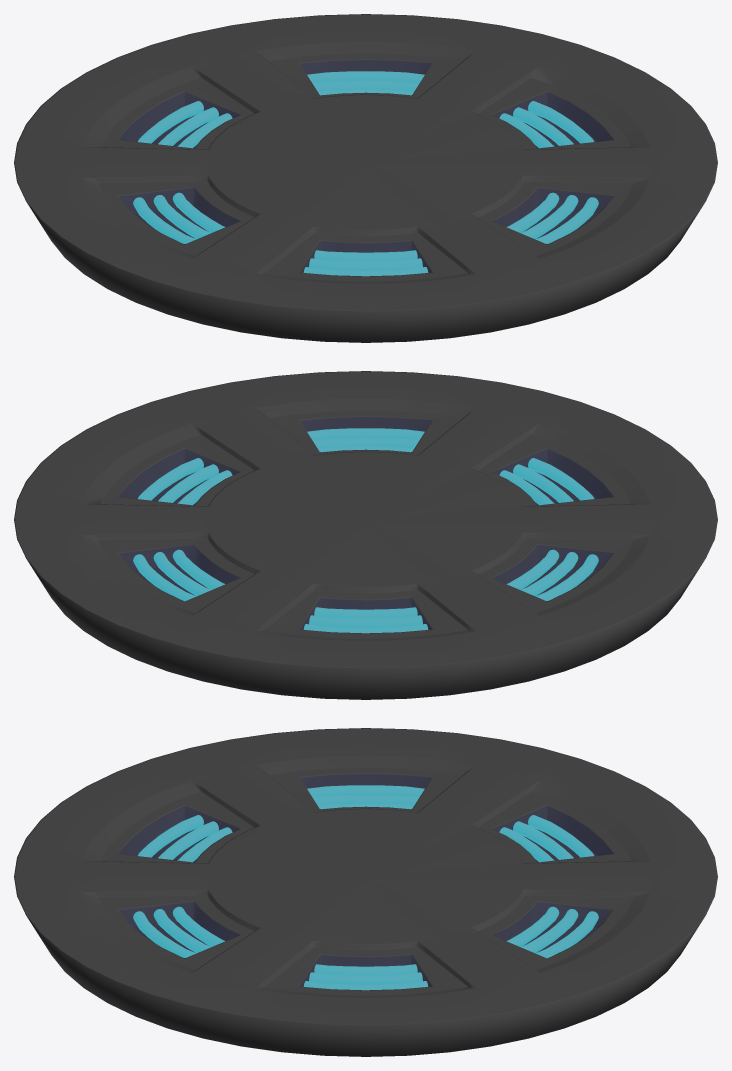
File: mdl_substancePlatform.fbx
3 views of the same model, one above another, from view 1: azimuth 30°, elevation 25°; view 2: azimuth 150°, elevation 25°; view 3: azimuth 270°, elevation 25° (orthographic).
Visible parts, largest first — view 1: mesh_substancePlatform; view 2: mesh_substancePlatform; view 3: mesh_substancePlatform.
Part boxes in pixels (box(x1,y1,x2,y2)): mesh_substancePlatform: box(14, 14, 717, 342); mesh_substancePlatform: box(14, 371, 717, 699); mesh_substancePlatform: box(14, 728, 717, 1056).
Bounding box in the file's own units: 225 × 15 × 225.
